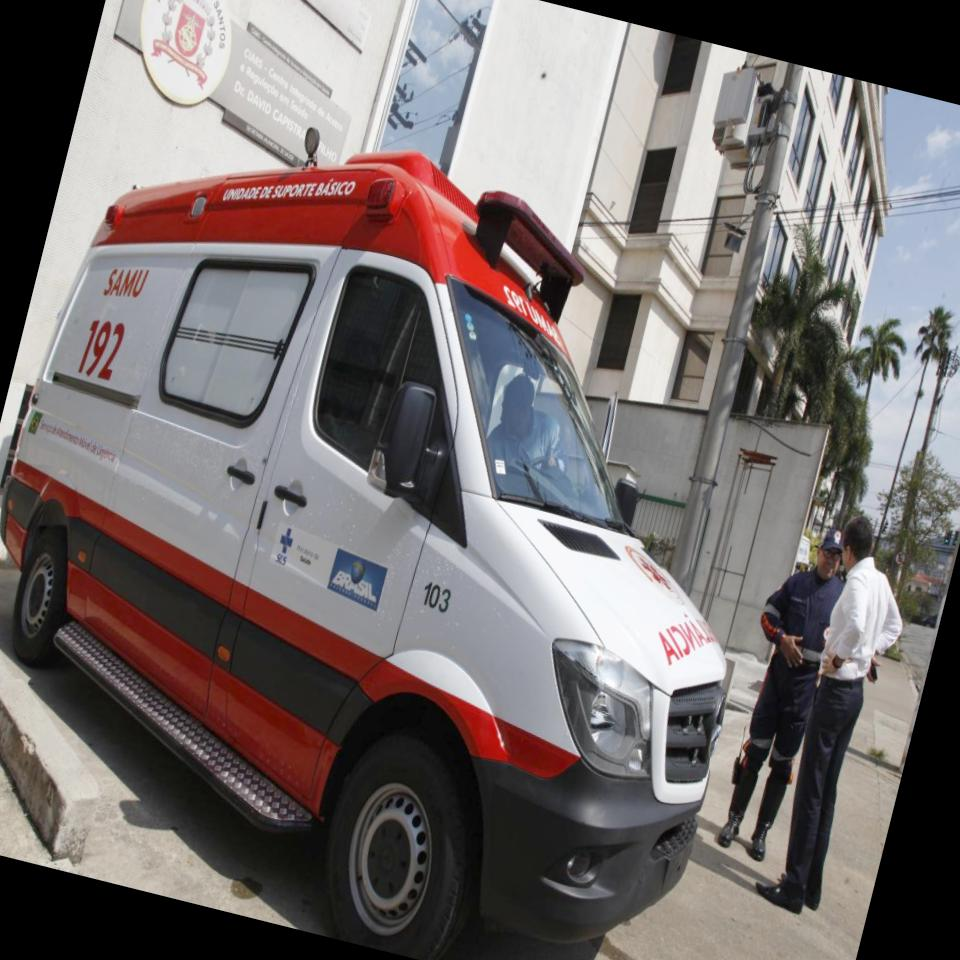bombeiro: (0, 70, 848, 960)
